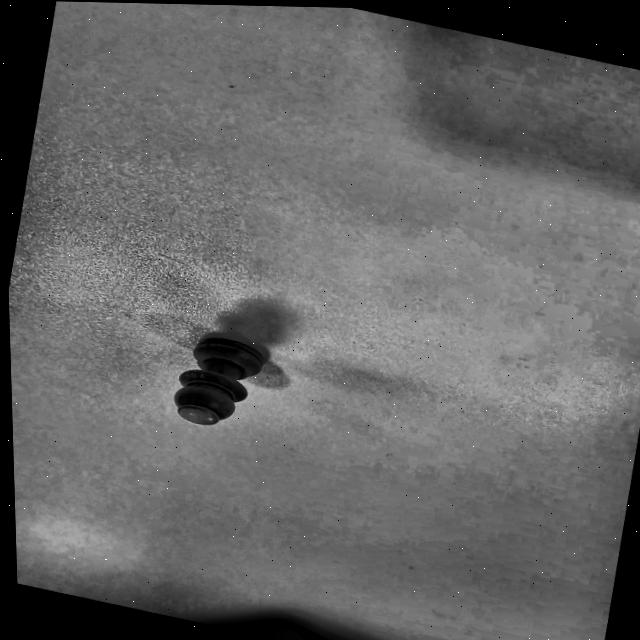white-bishop: (174, 308, 293, 425)
